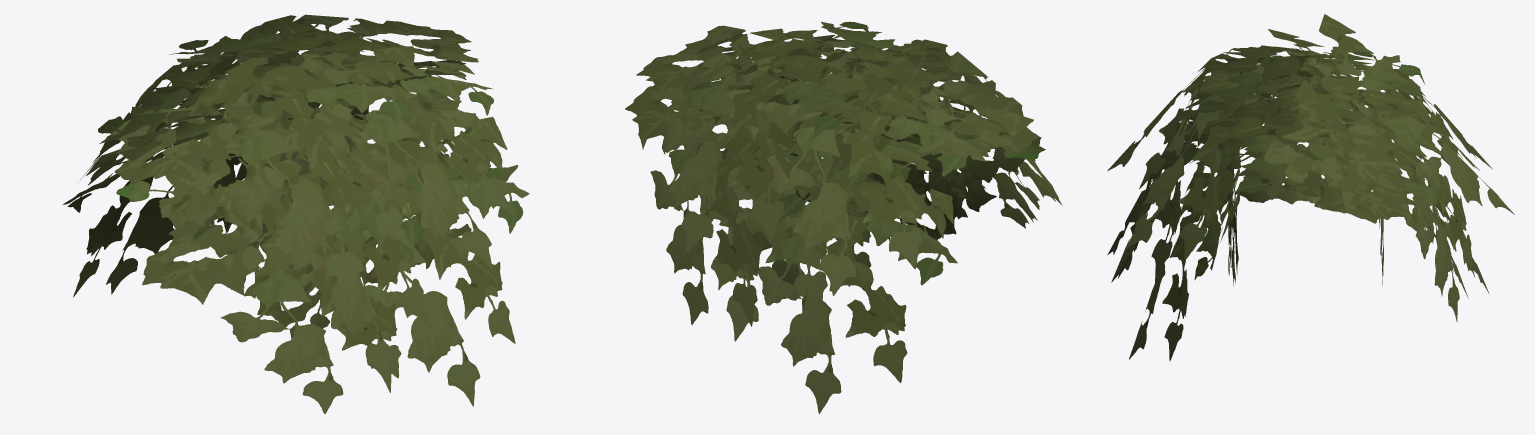
The picture shows the model from 3 angles, left to right: view 1: azimuth 30°, elevation 25°; view 2: azimuth 150°, elevation 25°; view 3: azimuth 270°, elevation 25°; orthographic projection. The views are drawn at different scales.
Parts seen in each view (by area): view 1: body0_model0_lod0_mesh0; view 2: body0_model0_lod0_mesh0; view 3: body0_model0_lod0_mesh0.
Part boxes in pixels (x1,y1,x2,y2): body0_model0_lod0_mesh0: [62, 14, 529, 413]; body0_model0_lod0_mesh0: [625, 21, 1062, 413]; body0_model0_lod0_mesh0: [1107, 14, 1514, 361].
Size of the model in its own units: 54.15 by 37.47 by 51.8.
1 material, 1 textured.
